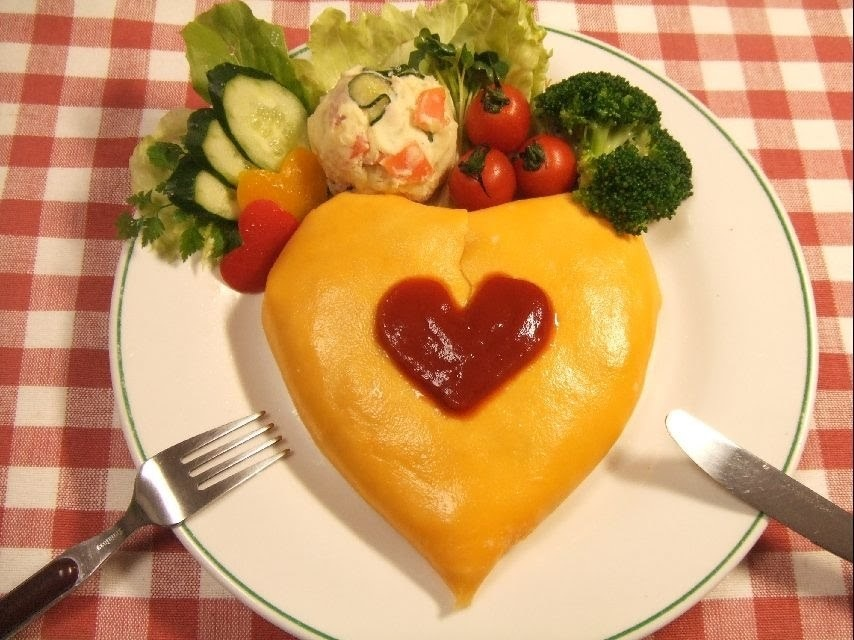background: (155, 0, 854, 610)
